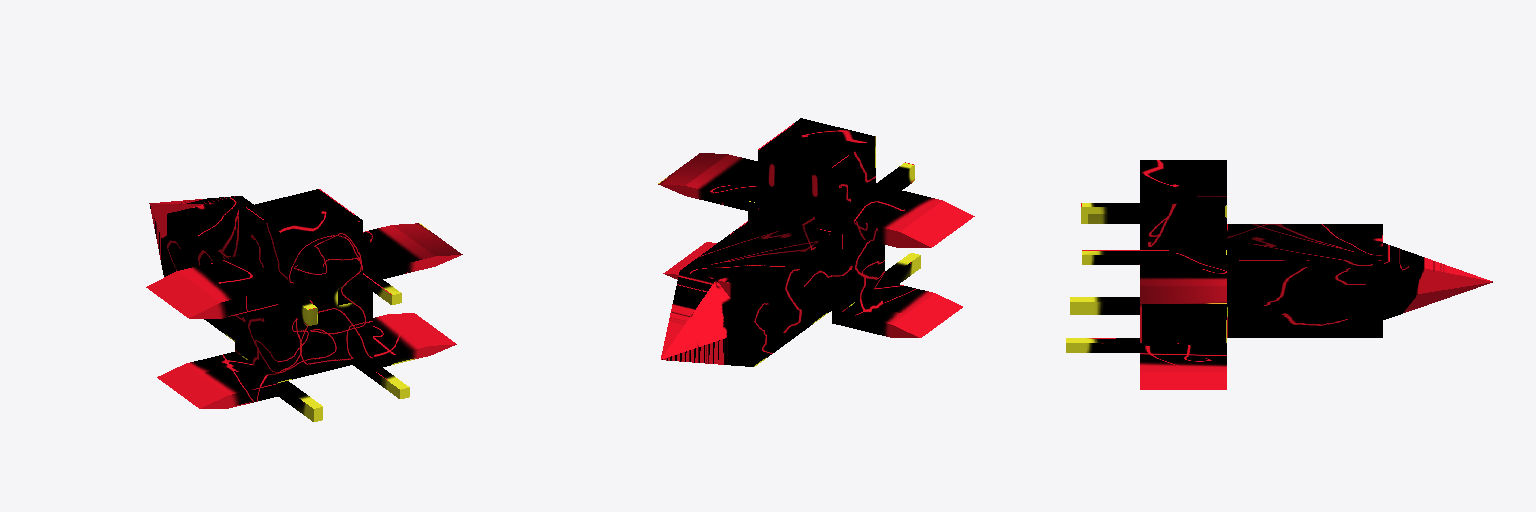
3 renders of one model, left to right at view 1: azimuth 30°, elevation 25°; view 2: azimuth 150°, elevation 25°; view 3: azimuth 270°, elevation 25°, orthographic.
Visible parts, largest first — view 1: Cube.001; view 2: Cube.001; view 3: Cube.001.
Part boxes in pixels (x1,y1,x2,y2): Cube.001: (146, 189, 462, 421); Cube.001: (658, 118, 974, 366); Cube.001: (1066, 160, 1492, 389).
Size of the model in its own units: 22.04 by 11.95 by 29.8.
1 materials, 1 textured.